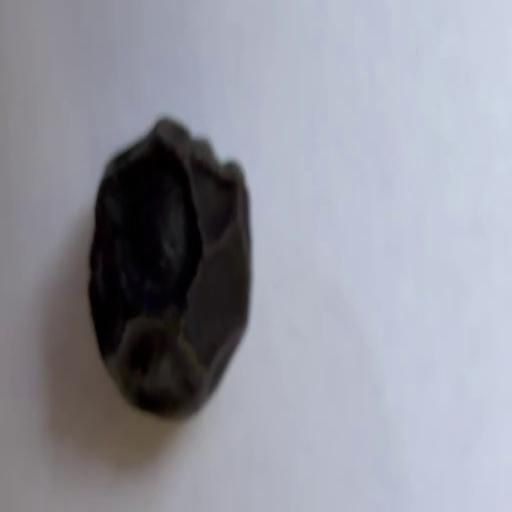Black_pepper: (78, 90, 253, 430)
